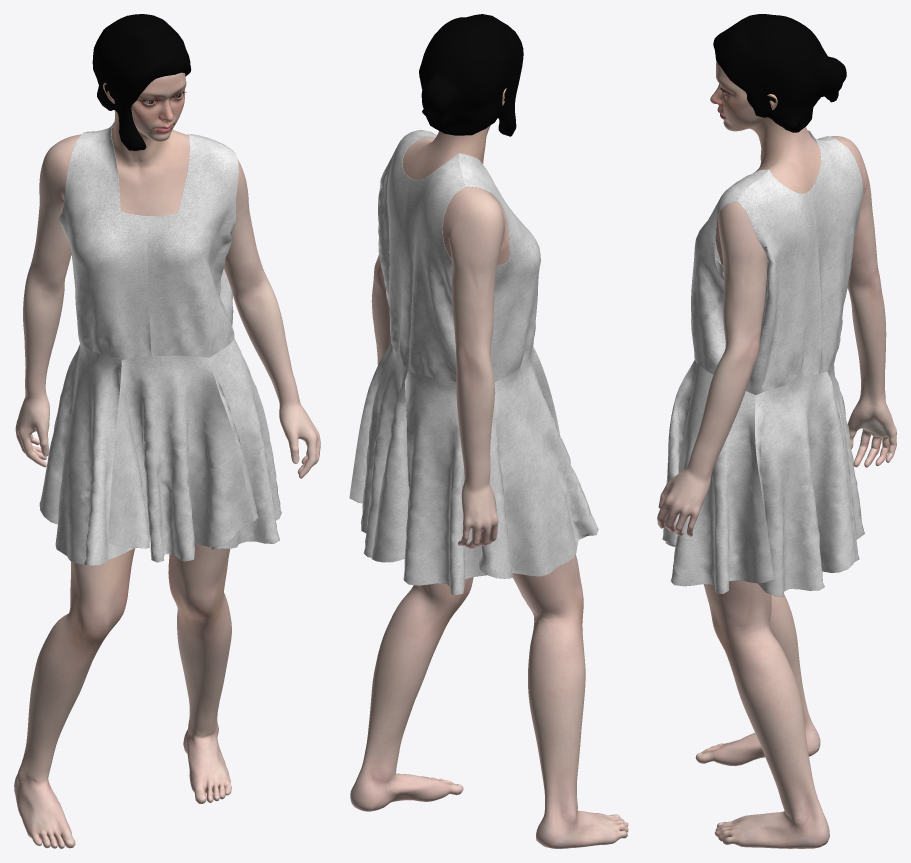
Rendered from Dynamic_2.obj.
3 views of the same model, side by side, from view 1: azimuth 30°, elevation 25°; view 2: azimuth 150°, elevation 25°; view 3: azimuth 270°, elevation 25° (orthographic). The views are drawn at different scales.
Size of the model in its own units: 612 by 1724 by 471.
